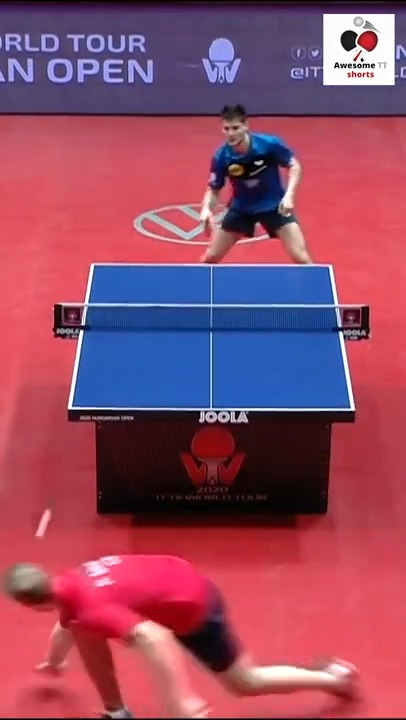Ball: (34, 509, 51, 530)
